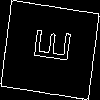E: (25, 24, 72, 65)
